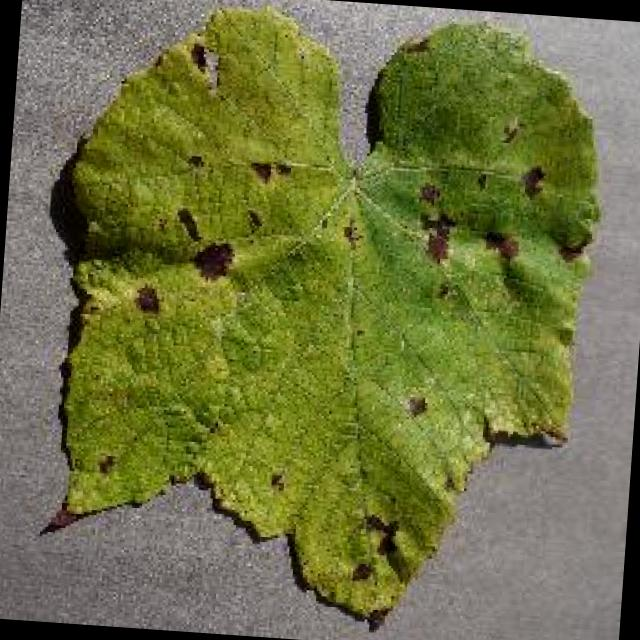leaf_spot: (50, 10, 596, 625)
